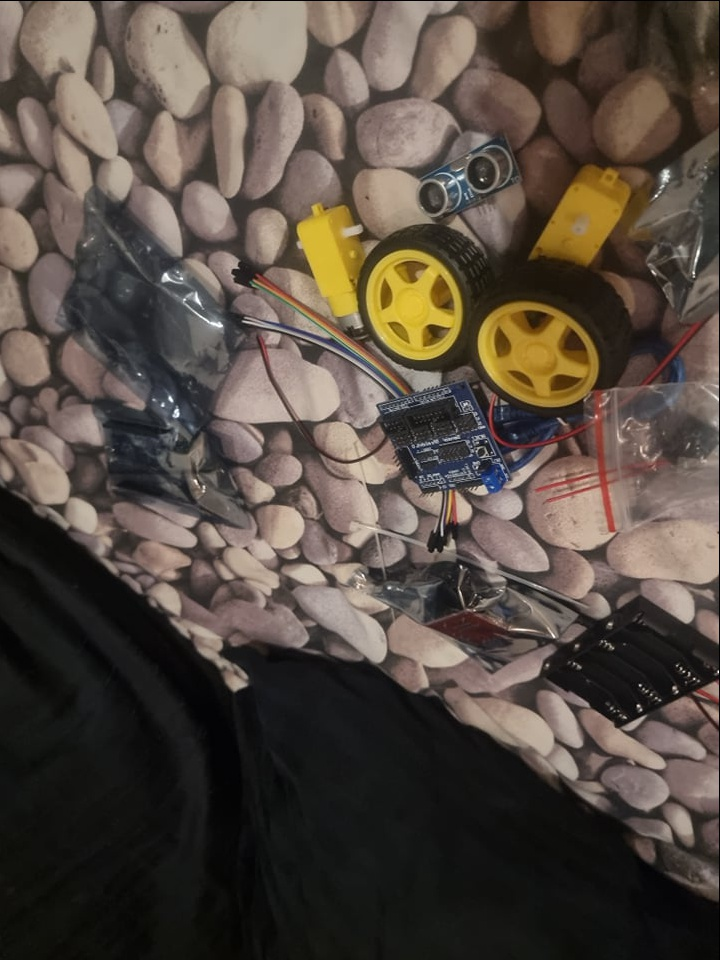5V EXPANSION: (381, 385, 513, 495)
SENSOR: (406, 133, 523, 222)
